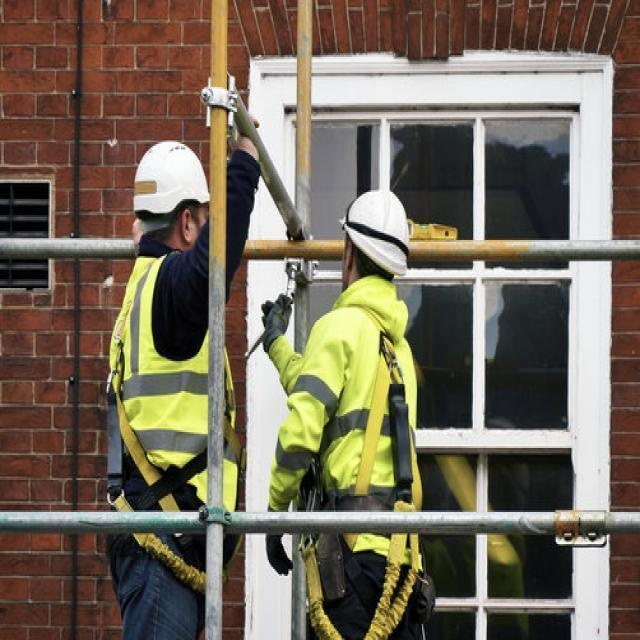Arnes_seguridad: (294, 296, 429, 637), (105, 255, 241, 571)
